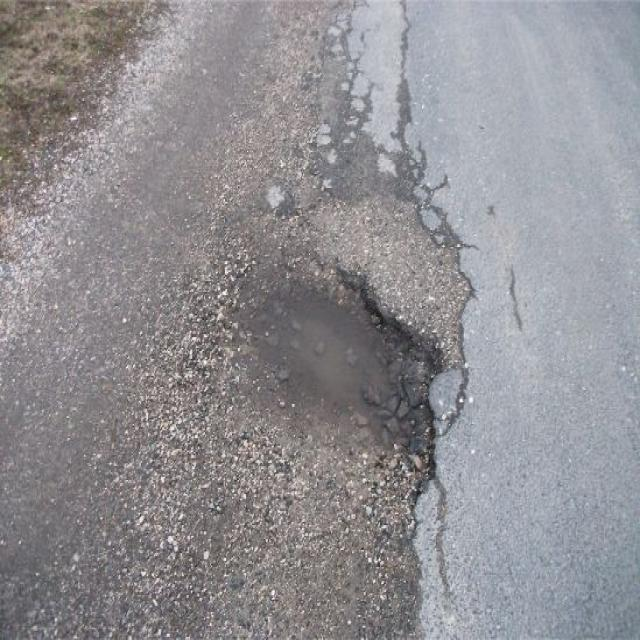pothole: (204, 216, 471, 474)
